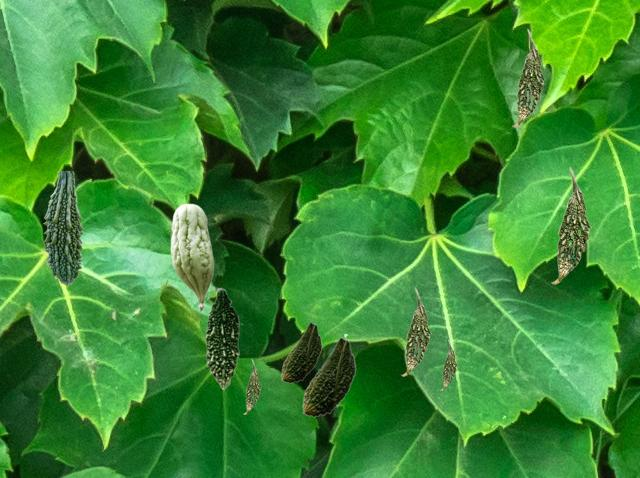ampalaya: (170, 203, 213, 310), (551, 166, 590, 283), (43, 171, 82, 283), (302, 337, 355, 416), (205, 286, 241, 389), (512, 28, 544, 126), (401, 287, 430, 375), (281, 322, 321, 382), (243, 358, 260, 413), (440, 339, 456, 389)
